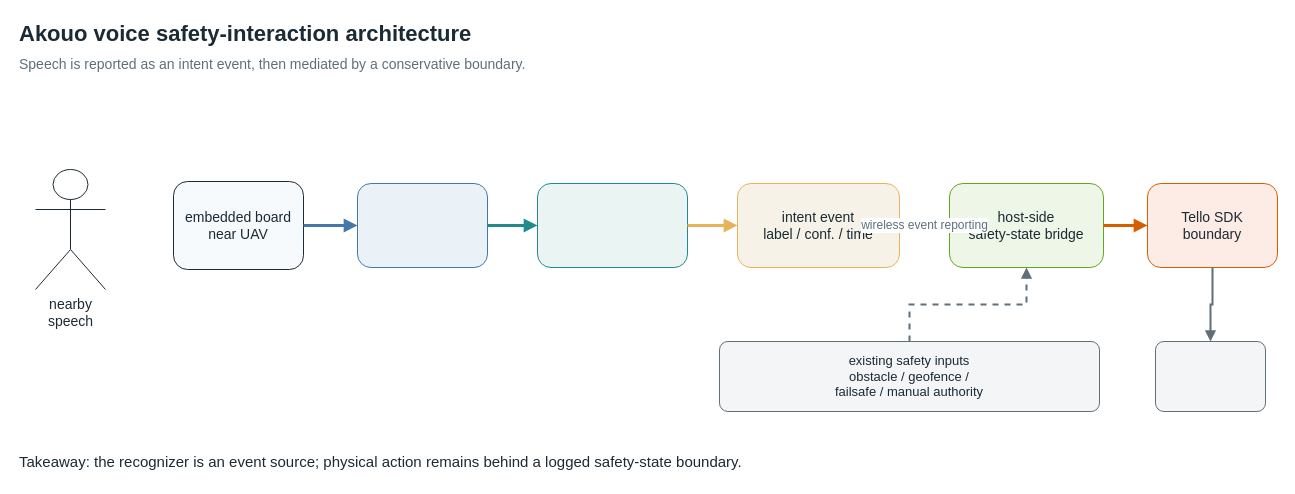
Some shapes in this 1295 by 494 pixel diagram are drawn without their labels. Each missing label, with the centre of its shape:
"log-mel integer inference" goes at (x=612, y=225).
"onboard capture" goes at (x=422, y=225).
"outcome record" goes at (x=1210, y=376).
